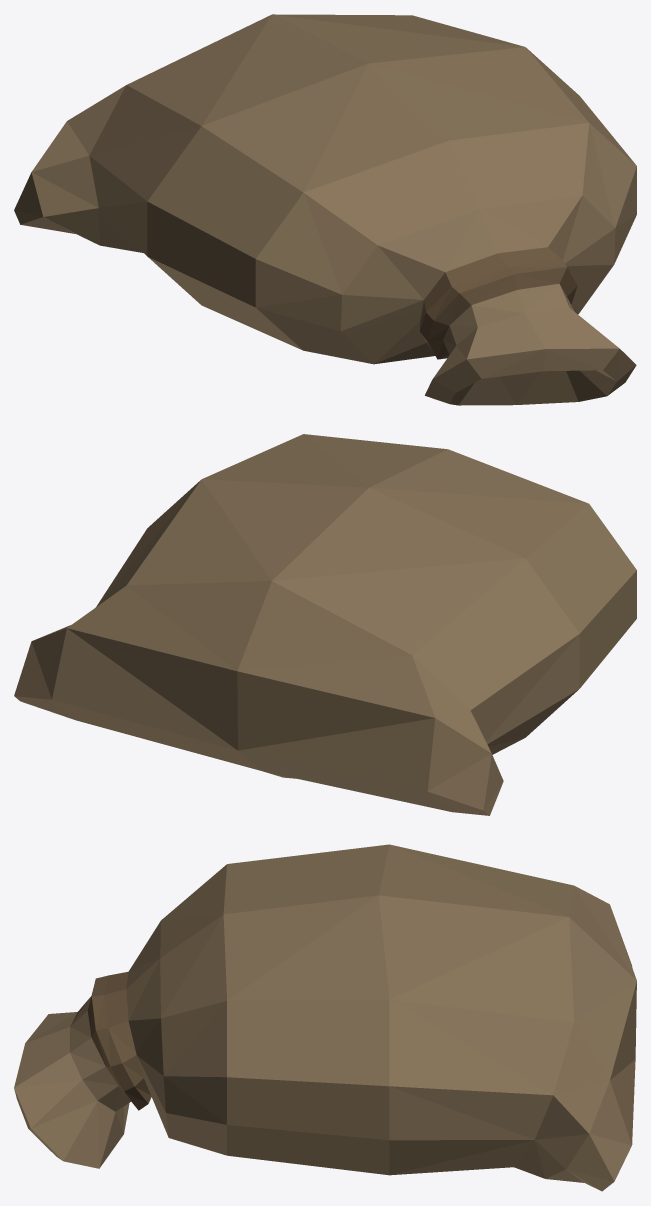
Rendered from SM_Prop_Sack_03.gltf.
3 renders of one model, top to bottom at view 1: azimuth 30°, elevation 25°; view 2: azimuth 150°, elevation 25°; view 3: azimuth 270°, elevation 25°, orthographic. The views are drawn at different scales.
Visible parts, largest first — view 1: SM_Prop_Sack_03; view 2: SM_Prop_Sack_03; view 3: SM_Prop_Sack_03.
Boxes of the visible parts, x1,y1,x2,y2 form: SM_Prop_Sack_03: (14,14,636,405); SM_Prop_Sack_03: (14,434,636,815); SM_Prop_Sack_03: (14,844,636,1191).
Bounding box in the file's own units: 0.4967 × 0.2445 × 0.5821.
Materials: 1 (1 with a texture image).
